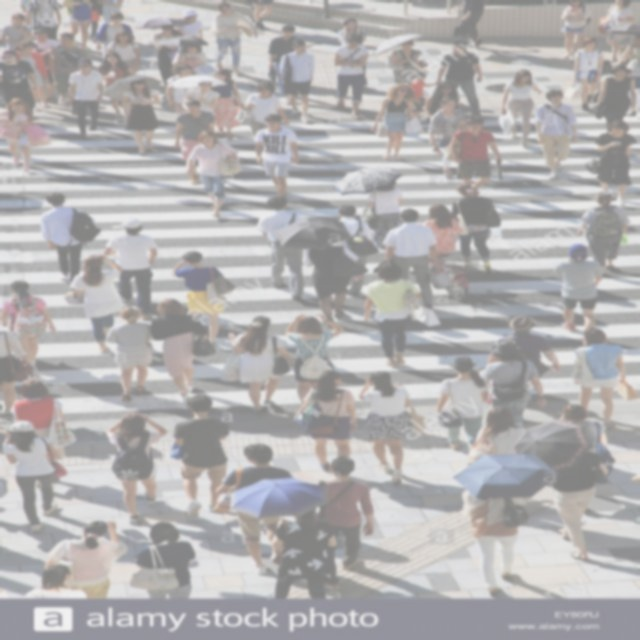pessoa: (14, 484, 290, 564), (168, 396, 464, 452), (352, 470, 566, 528), (214, 442, 294, 576), (370, 206, 454, 314), (312, 455, 376, 590), (36, 128, 180, 188), (329, 303, 476, 361), (356, 369, 428, 487), (167, 392, 233, 520), (0, 418, 70, 535), (218, 313, 297, 415), (103, 409, 171, 527), (146, 296, 220, 404), (332, 540, 459, 602), (568, 324, 640, 432), (460, 490, 530, 598), (36, 356, 164, 413), (488, 275, 638, 323), (42, 520, 131, 599), (550, 450, 612, 562), (61, 252, 127, 356), (362, 261, 425, 369), (292, 370, 358, 473), (252, 194, 312, 302), (270, 507, 338, 599), (480, 338, 548, 428), (101, 218, 160, 320), (550, 242, 606, 349), (168, 250, 228, 348), (300, 244, 370, 328), (39, 192, 101, 285), (496, 159, 590, 219), (284, 313, 344, 406), (184, 128, 244, 219), (128, 521, 196, 600), (103, 303, 156, 404), (8, 378, 70, 464), (436, 355, 490, 452), (574, 189, 632, 278), (486, 314, 562, 379), (450, 182, 502, 274), (448, 115, 504, 198), (533, 88, 581, 182), (370, 82, 424, 162), (252, 113, 302, 197), (496, 66, 544, 150), (434, 38, 484, 118), (464, 406, 529, 467), (594, 119, 638, 208), (559, 403, 612, 476), (118, 74, 164, 158), (336, 203, 376, 297), (172, 99, 216, 184), (46, 31, 91, 112), (222, 180, 338, 210), (426, 96, 467, 180), (278, 38, 318, 124), (591, 63, 639, 134), (266, 24, 307, 106), (360, 180, 406, 252), (66, 58, 106, 140), (94, 50, 138, 124), (333, 32, 369, 120), (0, 330, 35, 420), (293, 140, 369, 180), (242, 80, 290, 140), (13, 40, 52, 112), (597, 0, 638, 65), (0, 49, 40, 115), (572, 35, 606, 112), (308, 85, 384, 119), (208, 68, 243, 141), (21, 564, 88, 600), (164, 62, 198, 132), (422, 202, 464, 258), (30, 28, 61, 103), (151, 23, 185, 88), (94, 10, 136, 60), (382, 38, 424, 88), (560, 0, 593, 61), (262, 24, 346, 46), (58, 0, 94, 51), (406, 70, 440, 122), (105, 28, 141, 76), (423, 80, 461, 125), (182, 80, 222, 122), (452, 0, 486, 49), (24, 0, 64, 40), (0, 12, 34, 52), (172, 8, 205, 40), (336, 16, 369, 47), (170, 44, 208, 69), (250, 0, 276, 31), (86, 0, 105, 39), (98, 0, 124, 23), (622, 34, 640, 60), (418, 60, 428, 68)
